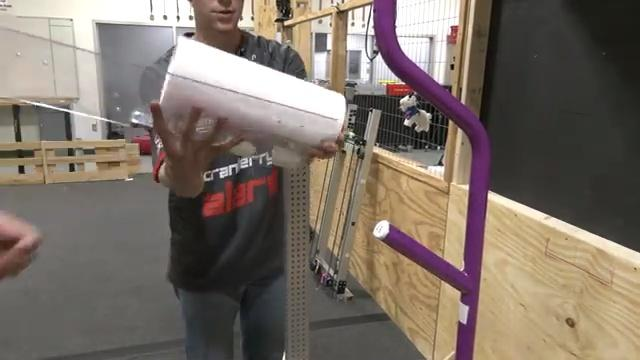CORAL: (155, 34, 347, 168)
